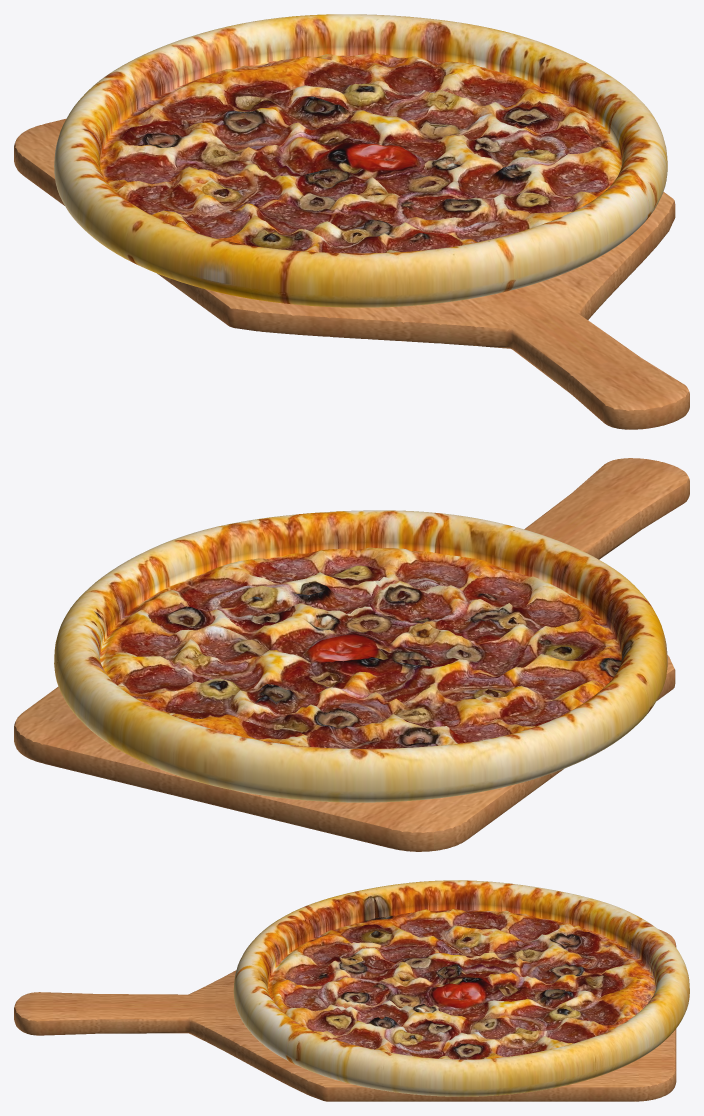
File: pizza-pepperoni.glb
3 views of the same model, one above another, from view 1: azimuth 30°, elevation 25°; view 2: azimuth 150°, elevation 25°; view 3: azimuth 270°, elevation 25° (orthographic). The views are drawn at different scales.
Visible parts, largest first — view 1: pizza-pepperoni, peel.002; view 2: pizza-pepperoni, peel.002; view 3: pizza-pepperoni, peel.002.
Part boxes in pixels (bbox=[...]): pizza-pepperoni: bbox=[54, 14, 667, 307]; peel.002: bbox=[14, 118, 689, 429]; pizza-pepperoni: bbox=[54, 510, 667, 802]; peel.002: bbox=[14, 458, 689, 851]; pizza-pepperoni: bbox=[233, 880, 689, 1096]; peel.002: bbox=[14, 929, 676, 1101].
Bounding box in the file's own units: 0.3 × 0.0395 × 0.4444.
Materials: 3 (2 with a texture image).
